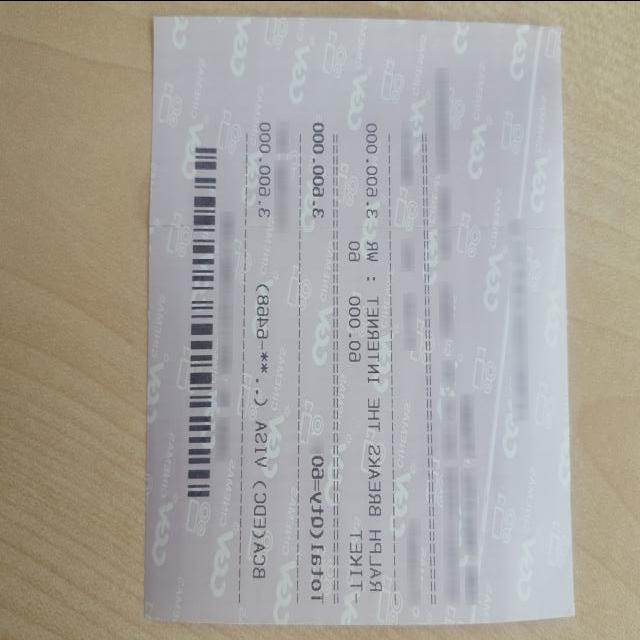kertas: (146, 16, 574, 624)
